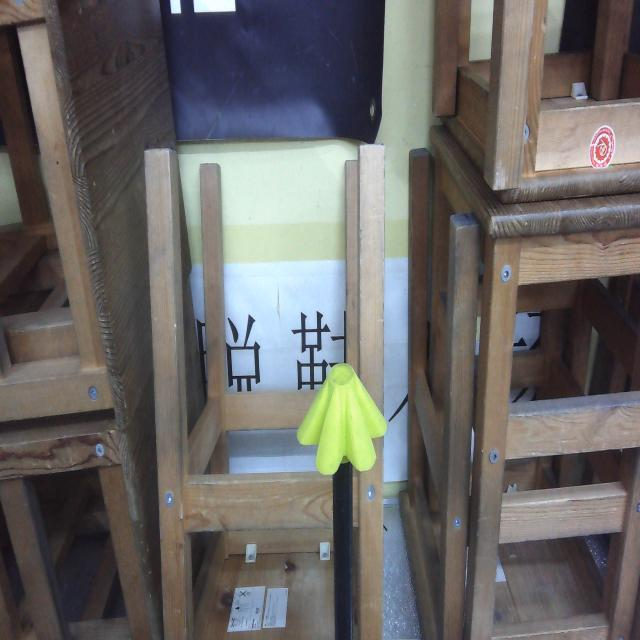Yellow-Stake-Head: (296, 363, 388, 475)
